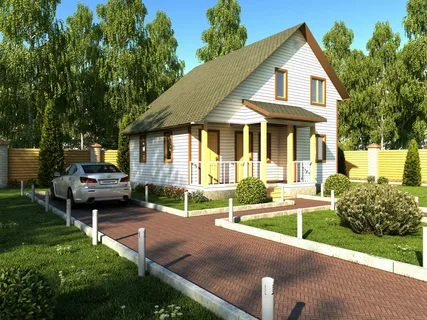private_hause: (125, 42, 342, 196)
